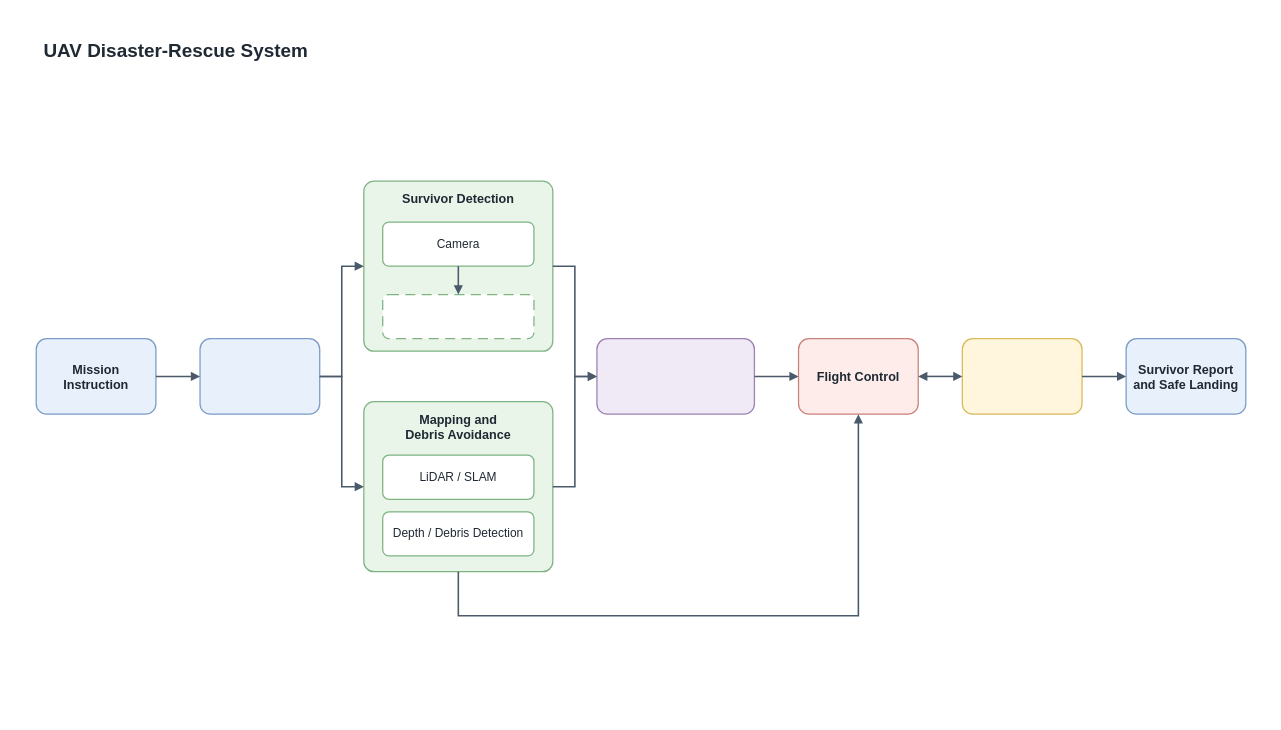
Some shapes in this 1281 by 730 pixel diagram are drawn without their labels. Each missing label, with the centre of its shape:
"Mission Planning" belongs at pixel 259 376.
"PX4 + Gazebo" belongs at pixel 1021 376.
"Survivor Localization and Navigation" belongs at pixel 675 376.
"VLM Confirmation optional" belongs at pixel 458 316.
